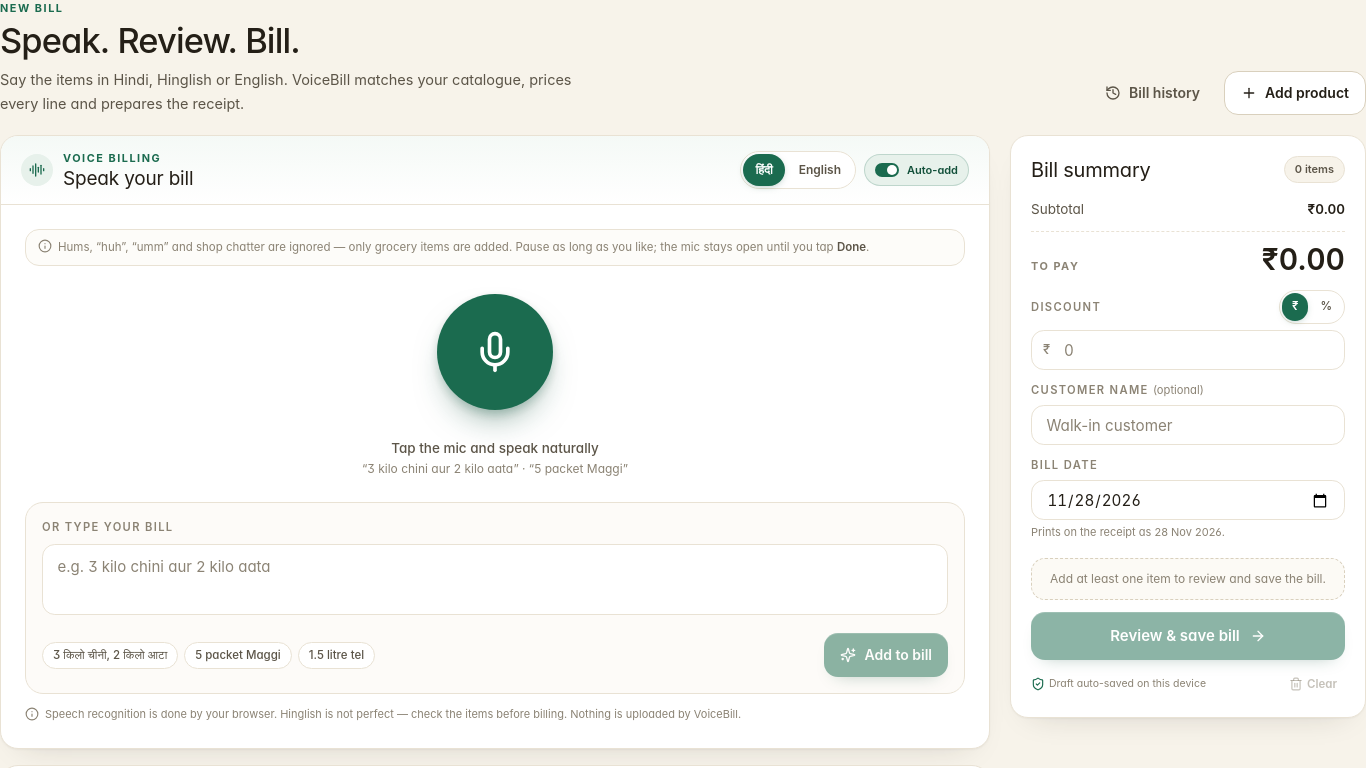
Test: new bill workspace › adds the product when the shopkeeper hums then says an item
What coordinates should you click on to do the following:
click the button named "start voice input"
I would click on:
 (495, 352)
Its box is [437,294,553,410].
(page scrolled)
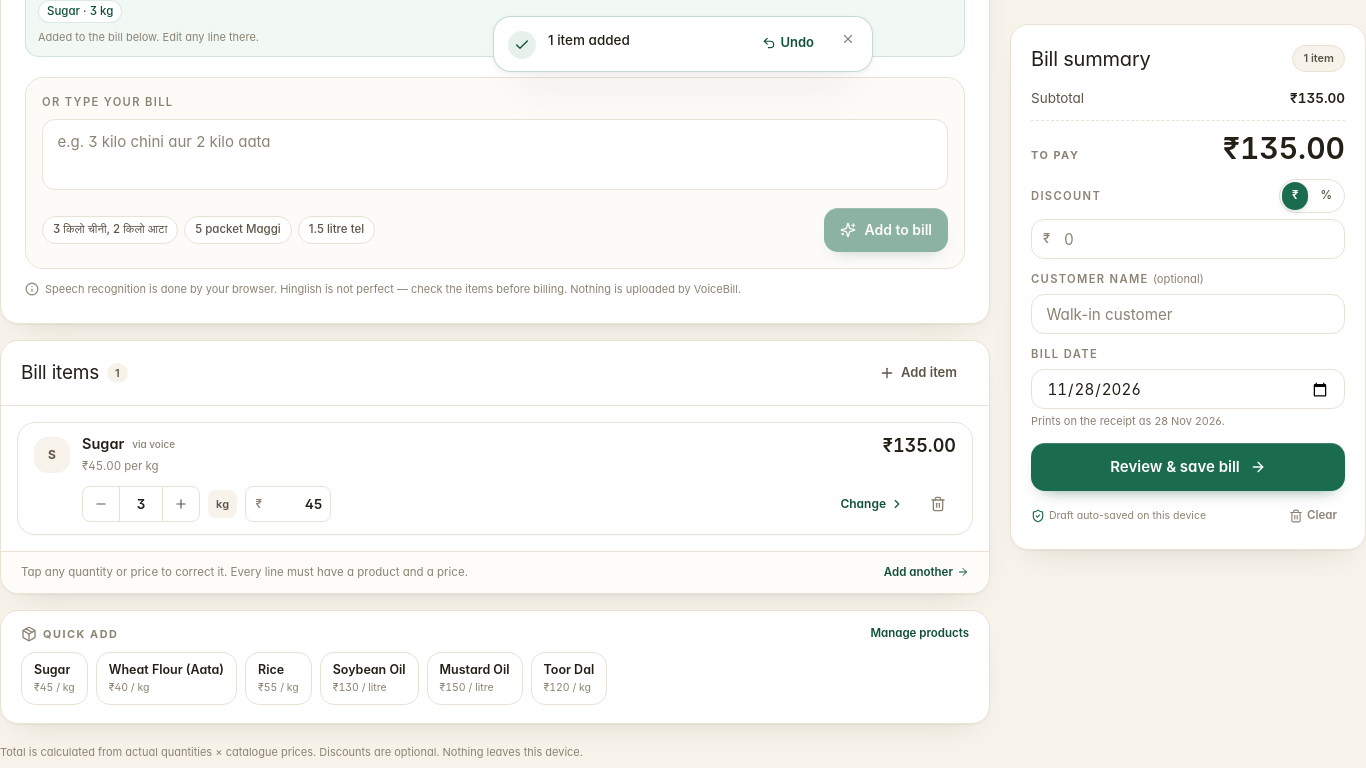
Expected: the field named "Quantity of Sugar" holds "3", [119,487,163,521]
